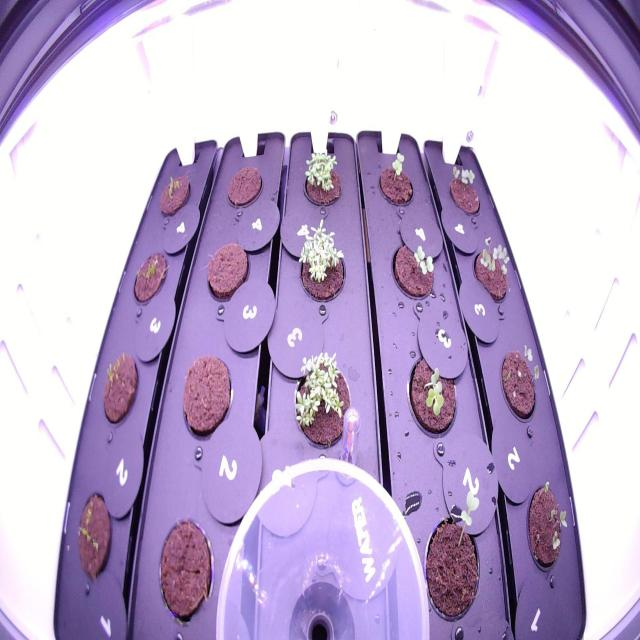germination: (414, 480, 489, 630), (288, 346, 357, 454), (292, 213, 351, 314), (402, 349, 464, 445), (524, 476, 572, 591), (494, 337, 545, 435), (70, 487, 117, 589), (385, 230, 440, 306), (96, 346, 142, 430), (468, 233, 518, 309), (294, 145, 346, 215), (371, 148, 419, 213), (441, 159, 486, 224), (128, 244, 170, 309), (153, 166, 195, 223)
pod: (153, 512, 219, 629), (178, 349, 236, 446), (201, 237, 253, 306), (222, 156, 266, 215)
